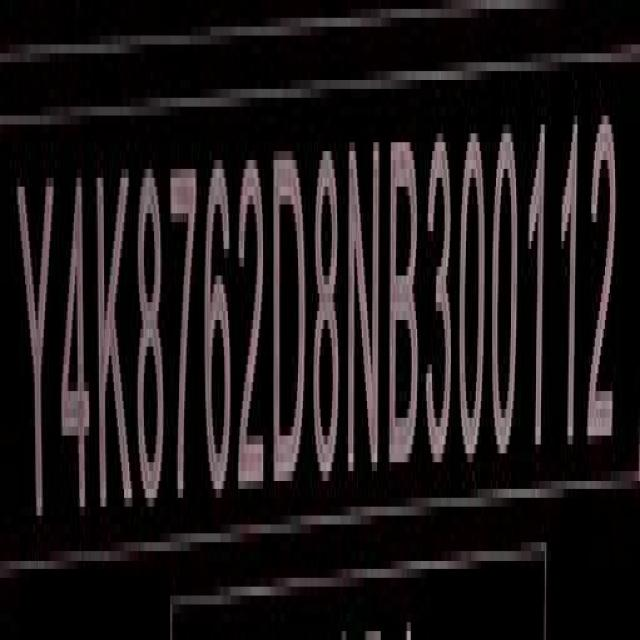0: (458, 125, 486, 470), (493, 116, 520, 468)
1: (558, 106, 581, 470), (525, 110, 548, 468)
2: (236, 146, 268, 507), (590, 107, 622, 464)
3: (426, 129, 454, 472)
4: (59, 163, 92, 535)
6: (204, 151, 232, 509)
7: (172, 150, 200, 513)
8: (313, 140, 342, 491), (138, 157, 165, 518)
B: (391, 132, 422, 480)
D: (272, 142, 308, 499)
K: (98, 160, 133, 529)
N: (346, 132, 383, 504)
Y: (15, 169, 54, 551)
